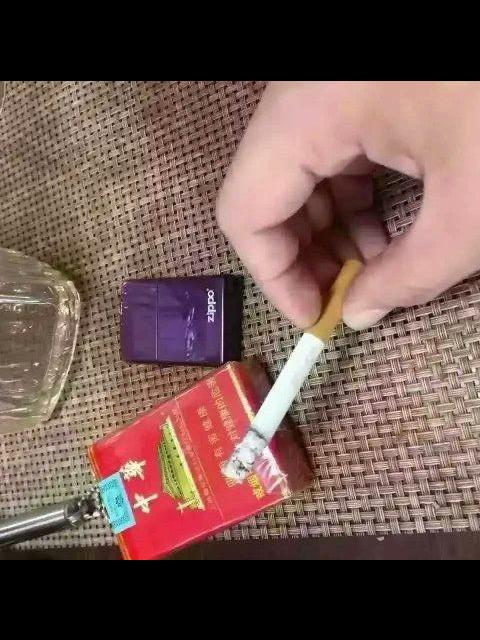Cigarette: (218, 253, 369, 482)
